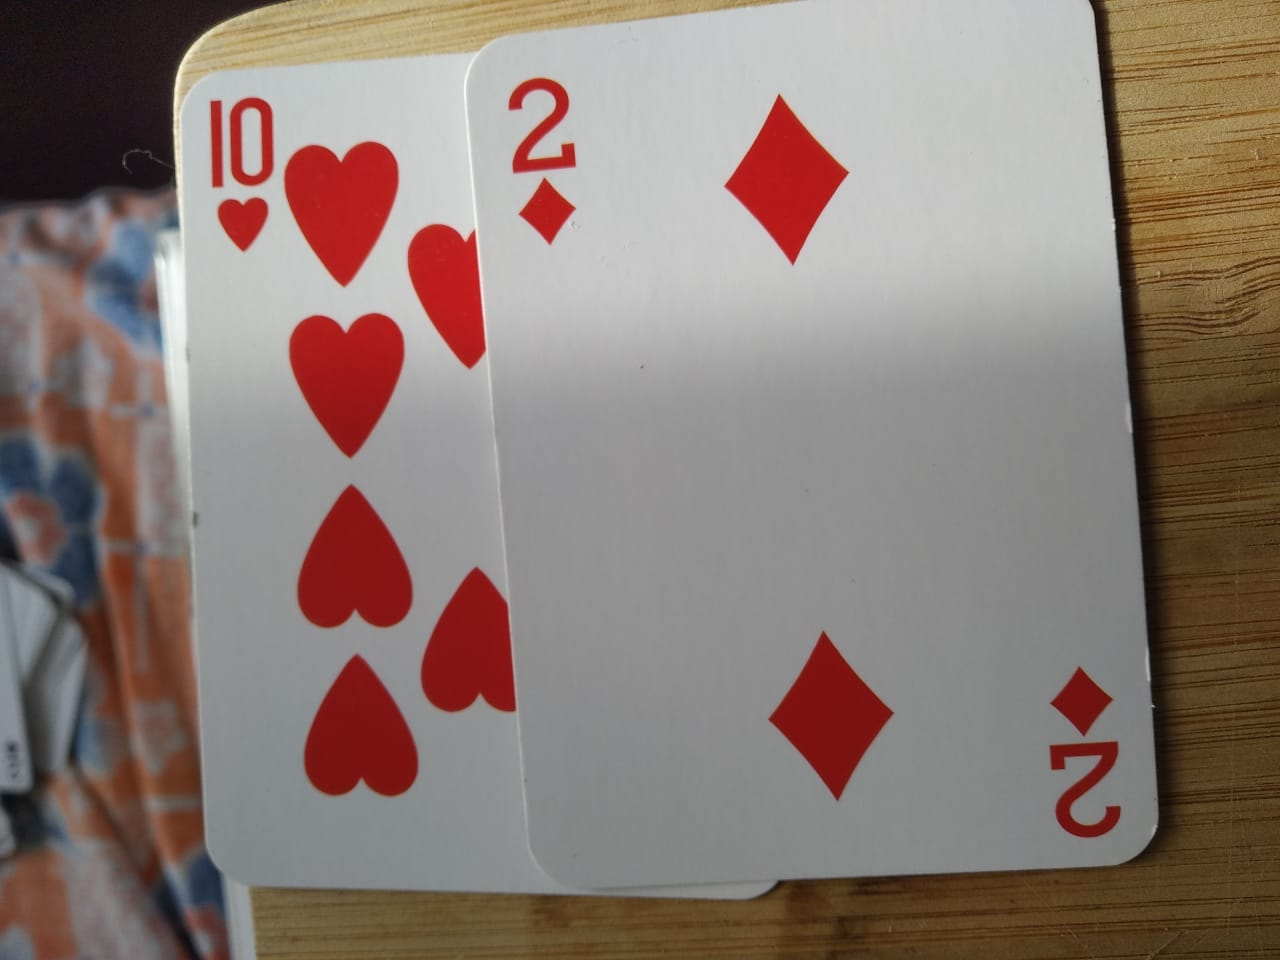two: (439, 1, 1185, 878)
